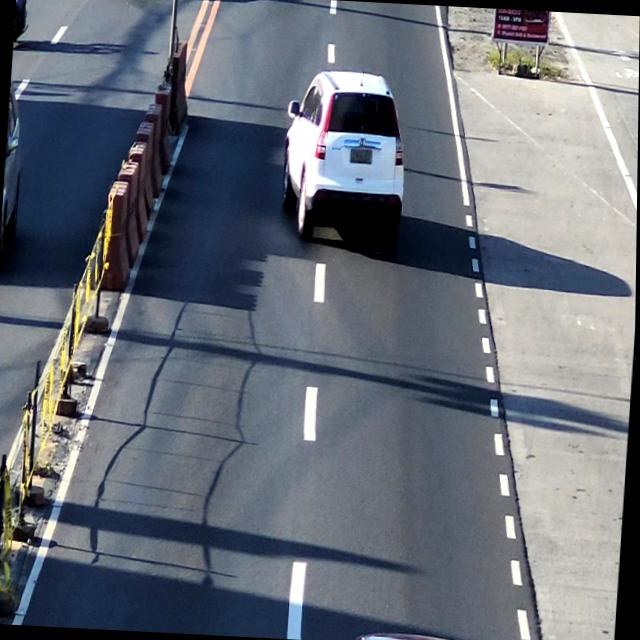Car: (277, 69, 411, 241)
License-Plate: (348, 143, 374, 167)
